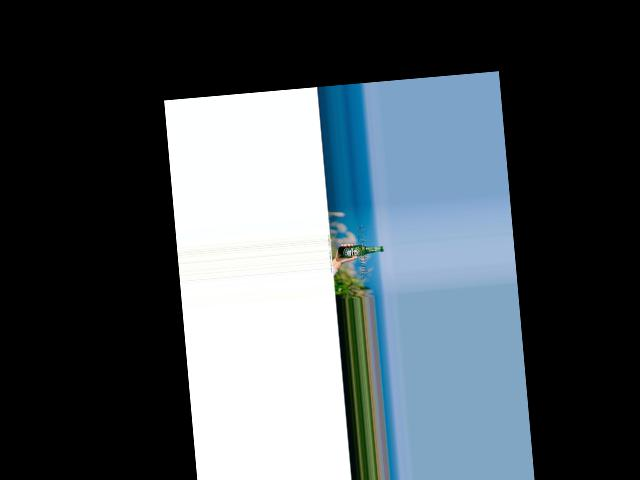beer: (337, 242, 383, 258)
